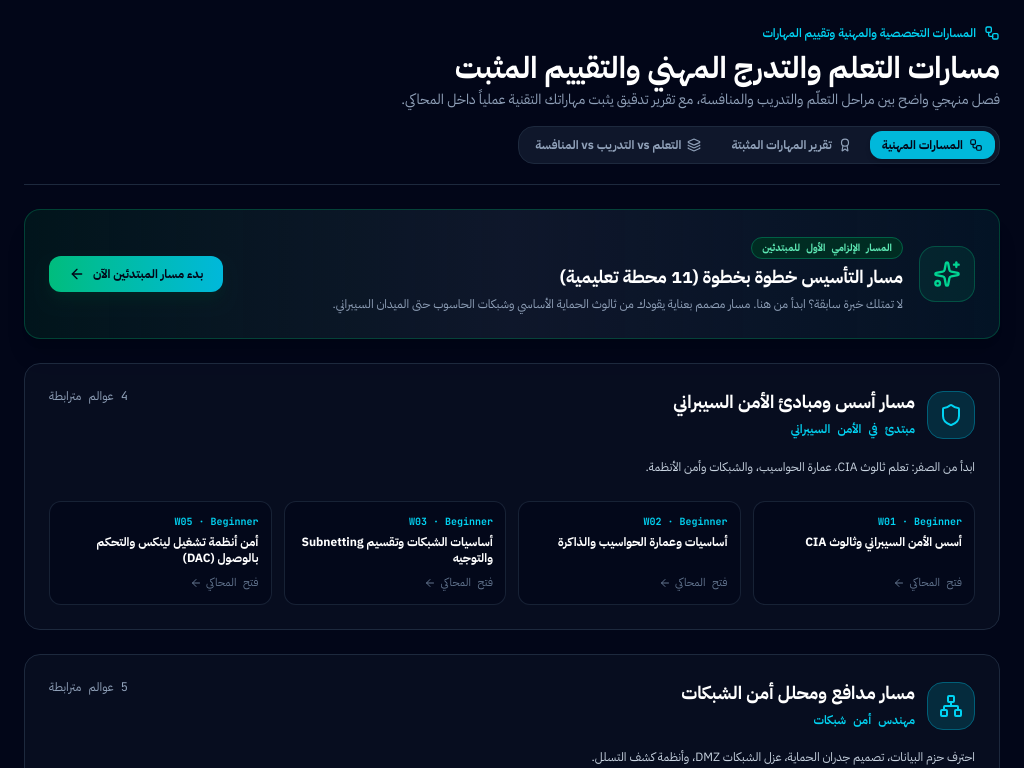
Test: OMEGA MAX — Real UI Component Integration & Challenge Lifecycle Suite › 7. Beginner Journey & Career Track Integration › 7.2 LearningPathsView switches between Career Tracks, Skills Report, and Modes Guide
The image size is (1024, 768).
Expected: the button with test id "tab-tracks-btn" is shown, [870, 131, 995, 159]
Expected: the button with test id "tab-modes-guide-btn" is shown, [523, 131, 713, 159]
Switch to Skills Report
Click the button with test id "tab-skills-report-btn" at (792, 145), box [719, 131, 864, 159]
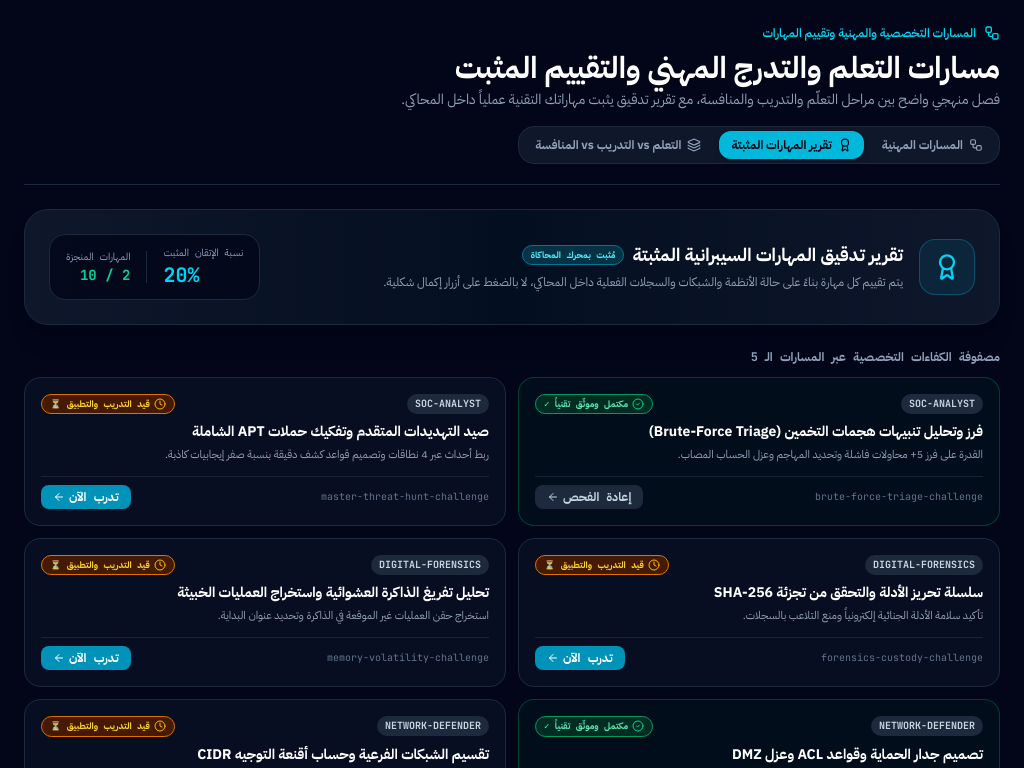
Now the text "تقرير تدقيق المهارات السيبرانية المثبتة" is shown, box [632, 241, 903, 269]
Now the heading "مصفوفة الكفاءات التخصصية عبر المسارات الـ 5" is shown, box [751, 349, 1000, 365]
Switch to Modes Guide
Click the button with test id "tab-modes-guide-btn" at (618, 145), box [523, 131, 713, 159]
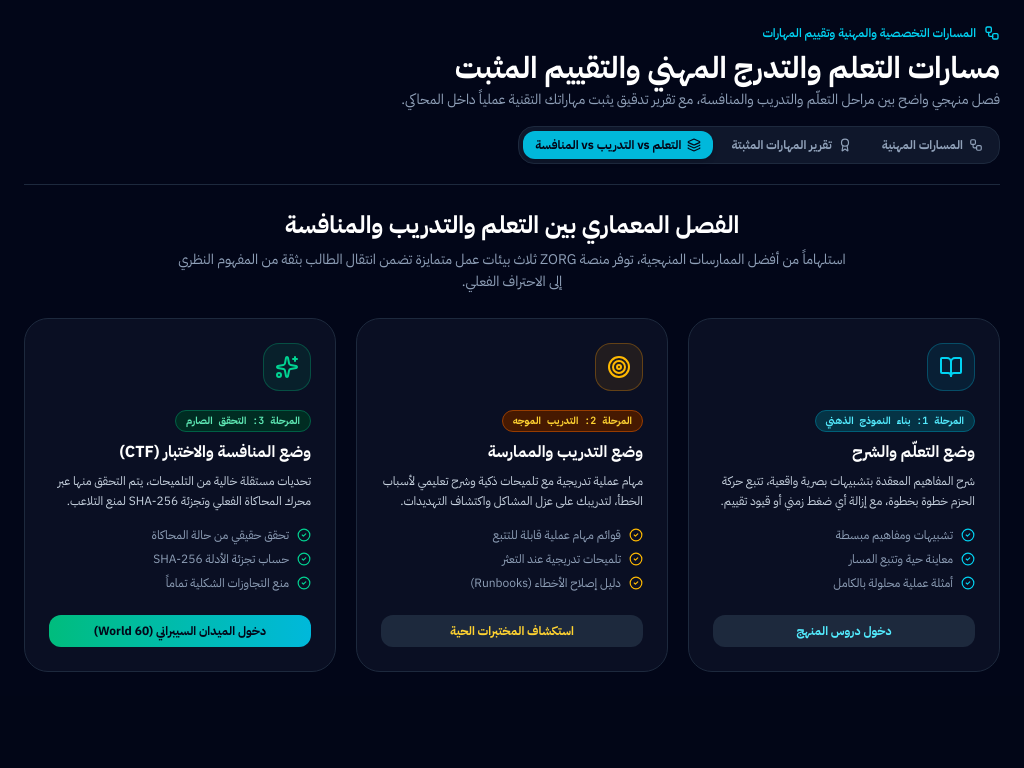
Now the heading "الفصل المعماري بين التعلم والتدريب والمنافسة" is shown, box [285, 207, 739, 243]
Now the heading "وضع التعلّم والشرح" is shown, box [852, 440, 975, 464]
Now the heading "وضع التدريب والممارسة" is shown, box [488, 440, 643, 464]
